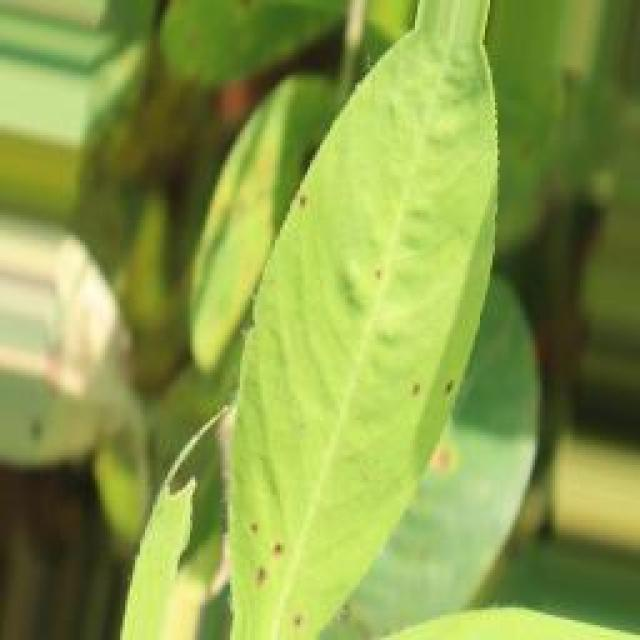Sigatoka: (237, 506, 298, 583), (284, 179, 340, 239), (397, 361, 462, 399), (344, 242, 392, 293), (280, 593, 309, 624)
